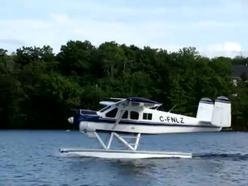aircraft: (57, 94, 231, 160)
